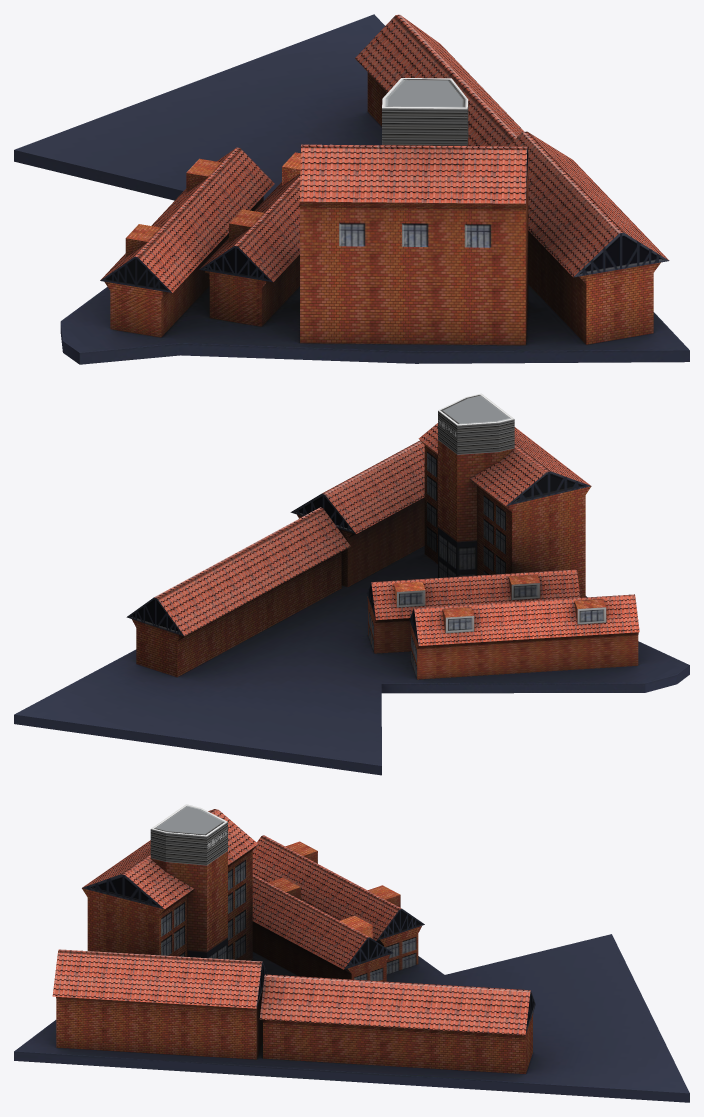
File: cyspace.gltf
3 renders of one model, top to bottom at view 1: azimuth 30°, elevation 25°; view 2: azimuth 150°, elevation 25°; view 3: azimuth 270°, elevation 25°, orthographic. The views are drawn at different scales.
Visible parts, largest first — view 1: pCube1, pCube4, pCube7, pCube13, pCube16, pCube14, pCube3, pCube8, pCube6, pCube15, pCube5, pCube2 (+3 smaller); view 2: pCube1, pCube3, pCube4, pCube8, pCube2, pCube15, pCube16, pCube13, pCube6, pCube7, pCube14, pCube5 (+4 smaller); view 3: pCube1, pCube3, pCube2, pCube14, pCube13, pCube4, pCube8, pCube16, pCube6, pCube7, pCube5, pCube15.
Boxes of the visible parts, x1,y1,x2,y2 form: pCube1: (14, 14, 689, 364); pCube4: (299, 153, 528, 345); pCube7: (299, 144, 528, 203); pCube13: (508, 131, 669, 277); pCube16: (100, 147, 274, 292); pCube14: (528, 231, 660, 344); pCube3: (355, 14, 524, 146); pCube8: (382, 78, 468, 145); pCube6: (199, 144, 332, 282); pCube15: (104, 196, 263, 337); pCube5: (204, 254, 299, 326); pCube2: (367, 72, 387, 125); pCube1: (14, 546, 689, 775); pCube3: (126, 507, 350, 636); pCube4: (420, 440, 591, 597); pCube8: (438, 393, 514, 577); pCube2: (132, 551, 341, 677); pCube15: (410, 622, 638, 679); pCube16: (409, 594, 639, 645); pCube13: (290, 440, 424, 533); pCube6: (366, 569, 580, 619); pCube7: (418, 423, 591, 505); pCube14: (297, 497, 424, 587); pCube5: (367, 596, 410, 653); pCube1: (14, 934, 689, 1102); pCube3: (259, 974, 535, 1035); pCube2: (262, 1013, 533, 1073); pCube14: (56, 990, 262, 1059); pCube13: (52, 949, 267, 1008); pCube4: (82, 845, 257, 960); pCube8: (150, 804, 227, 959); pCube16: (252, 835, 424, 940); pCube6: (252, 875, 393, 969); pCube7: (82, 809, 258, 909); pCube5: (252, 921, 390, 981); pCube15: (376, 926, 421, 974).
Size of the model in its own units: 12.41 by 4.67 by 16.02.
1 material, 1 textured.
